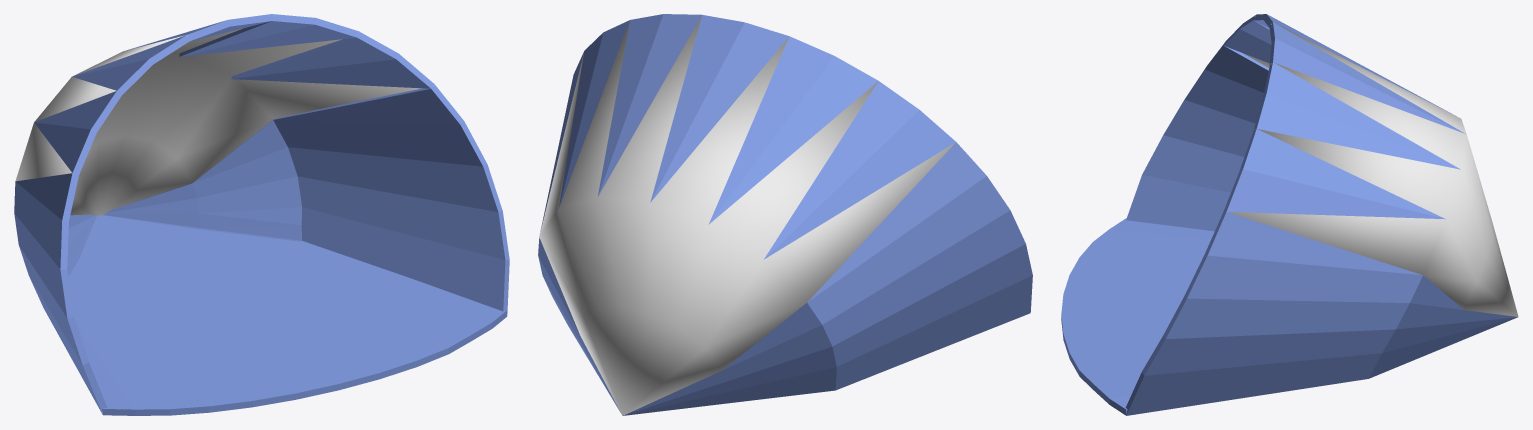
The model's file is Cockpit5.fbx.
The picture shows the model from 3 angles, left to right: view 1: azimuth 30°, elevation 25°; view 2: azimuth 150°, elevation 25°; view 3: azimuth 270°, elevation 25°; orthographic projection. The views are drawn at different scales.
Visible parts, largest first — view 1: Cone, Cone.001; view 2: Cone, Cone.001; view 3: Cone, Cone.001.
Part boxes in pixels (box(x1,y1,x2,y2)): Cone: box(14, 14, 509, 415); Cone.001: box(15, 15, 433, 216); Cone: box(538, 14, 1032, 415); Cone.001: box(539, 16, 955, 415); Cone: box(1061, 14, 1517, 415); Cone.001: box(1224, 15, 1518, 316).
Size of the model in its own units: 7111 by 4530 by 6656.
